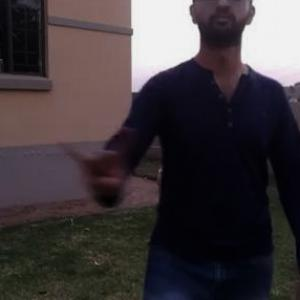takeoff-hand: (52, 127, 124, 207)
